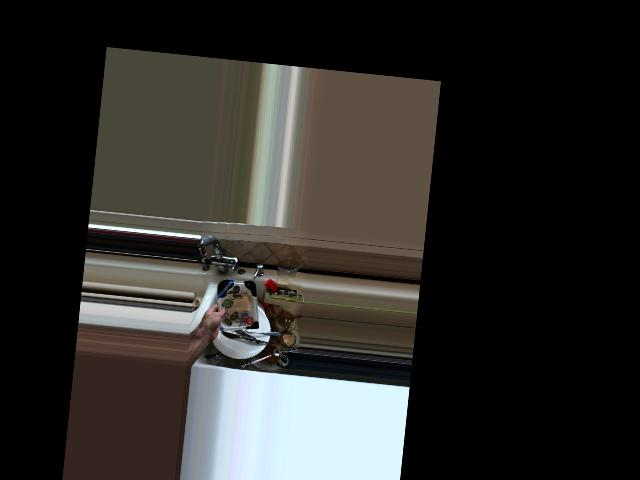cheese: (199, 272, 262, 342)
